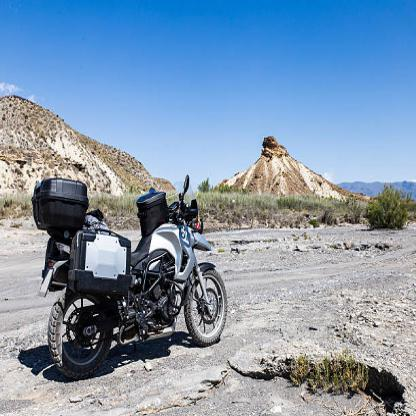Motorcycle: (27, 162, 235, 378)
